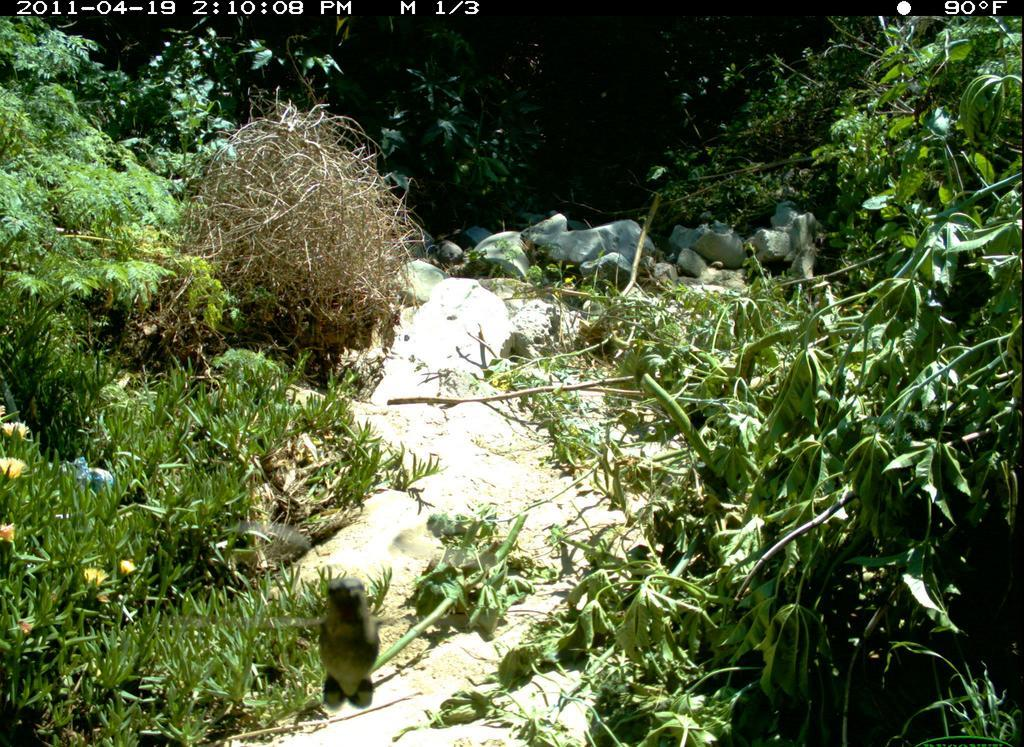bird: (301, 571, 411, 720)
